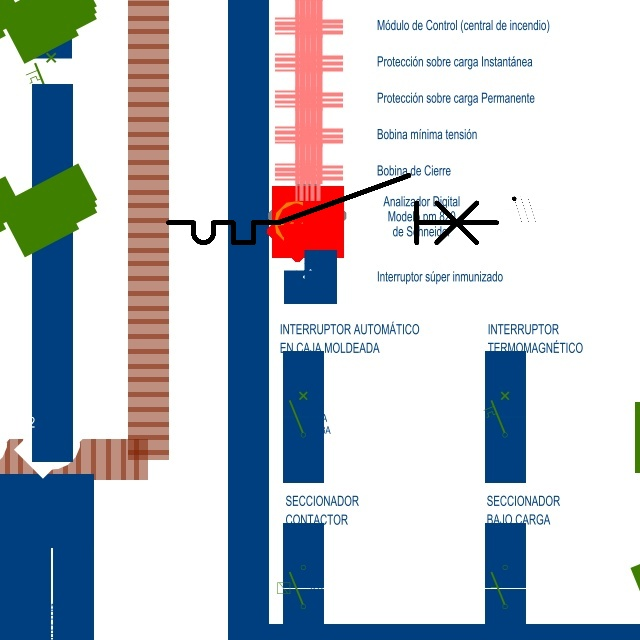interruptor_termomagnetico: (160, 167, 505, 251)
